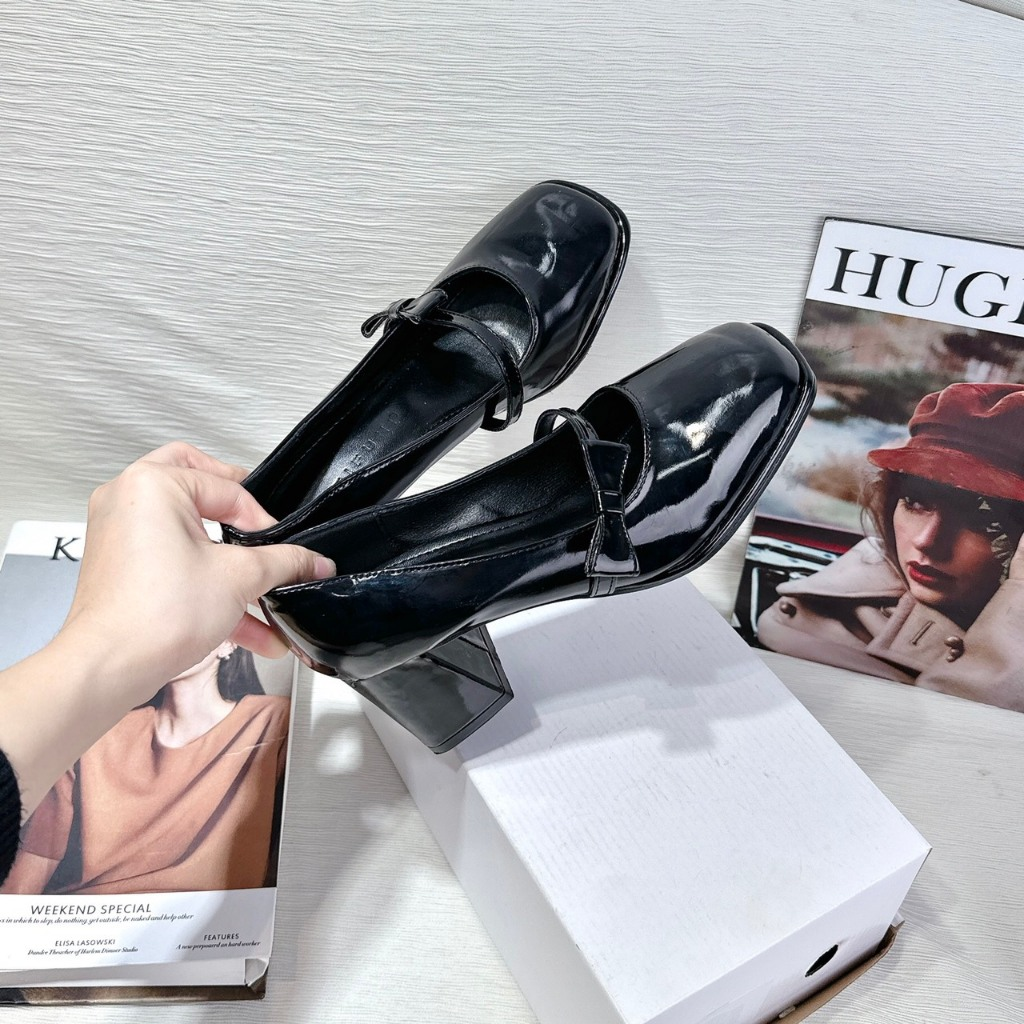high heels: (255, 321, 819, 754), (216, 179, 633, 557)
